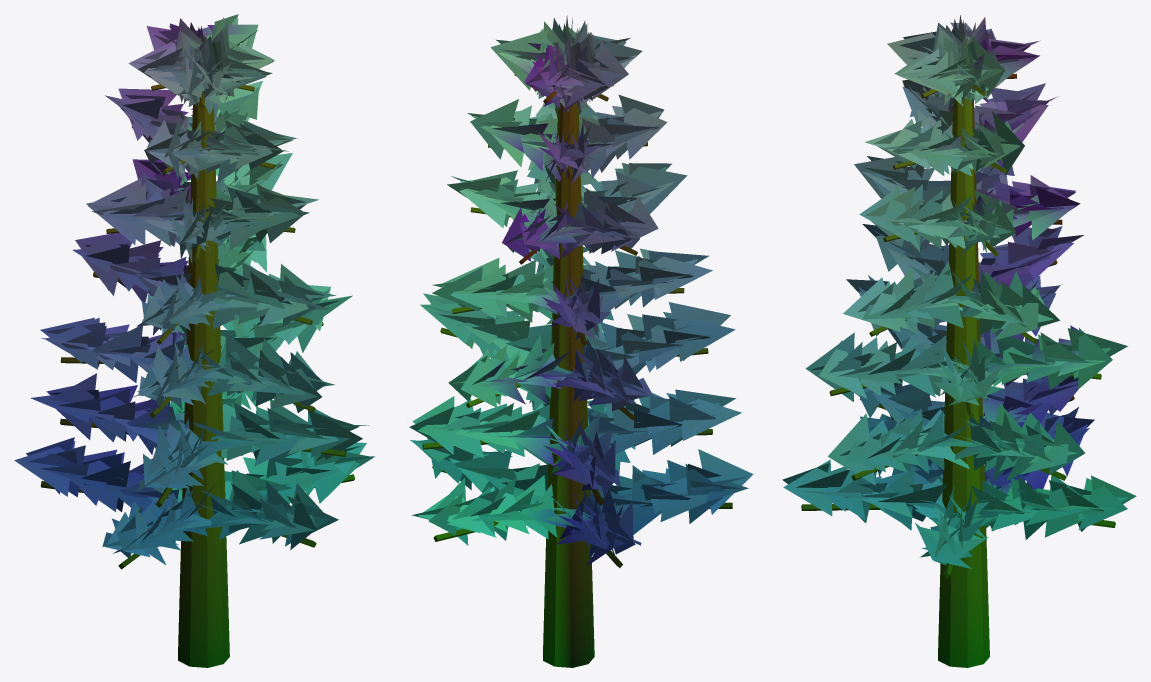
File: mature_conifer_01.glb
3 renders of one model, left to right at view 1: azimuth 30°, elevation 25°; view 2: azimuth 150°, elevation 25°; view 3: azimuth 270°, elevation 25°, orthographic.
Parts seen in each view (by area): view 1: mature_conifer_01; view 2: mature_conifer_01; view 3: mature_conifer_01.
Boxes of the visible parts, x1=… form: mature_conifer_01: x1=14, y1=14, x2=374, y2=667; mature_conifer_01: x1=409, y1=15, x2=753, y2=667; mature_conifer_01: x1=782, y1=15, x2=1136, y2=667.
Size of the model in its own units: 5.78 by 11.57 by 5.86.
